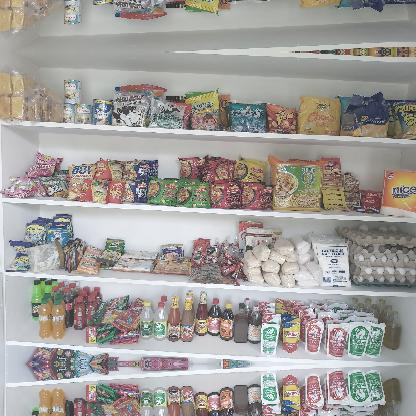Lady-s-Choice: (28, 240, 64, 272)
